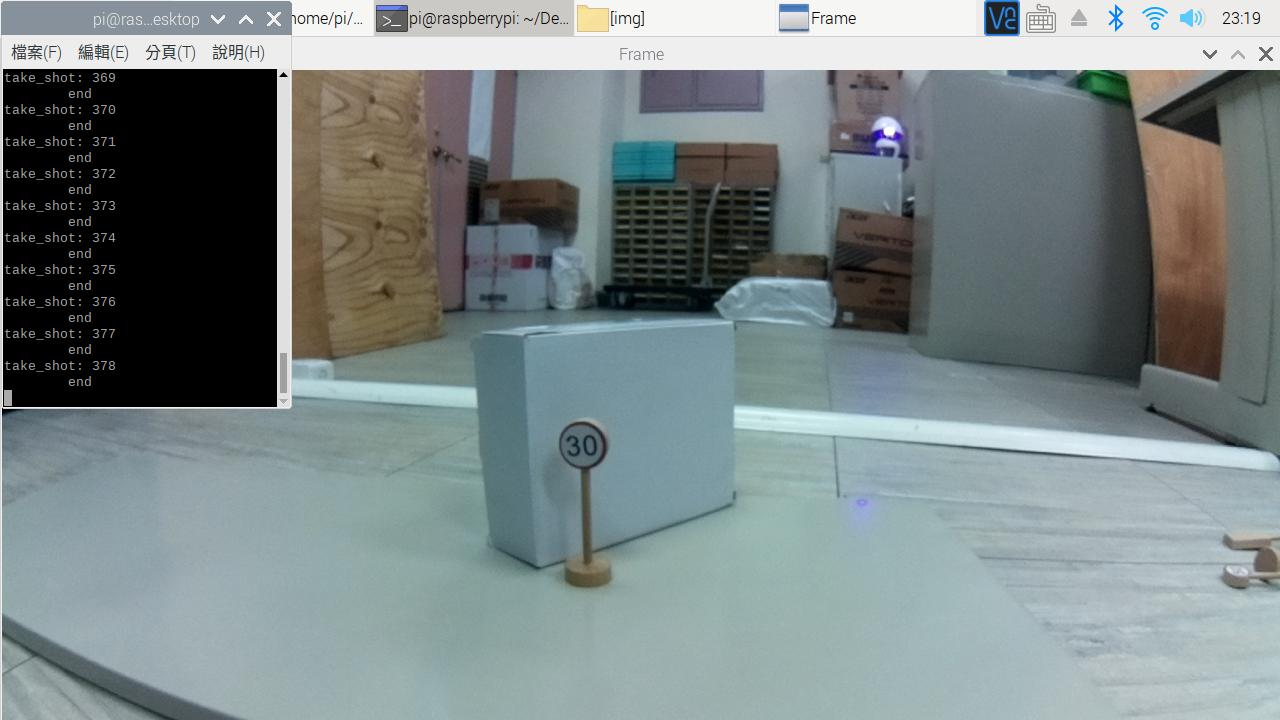Speed30: (550, 412, 616, 475)
